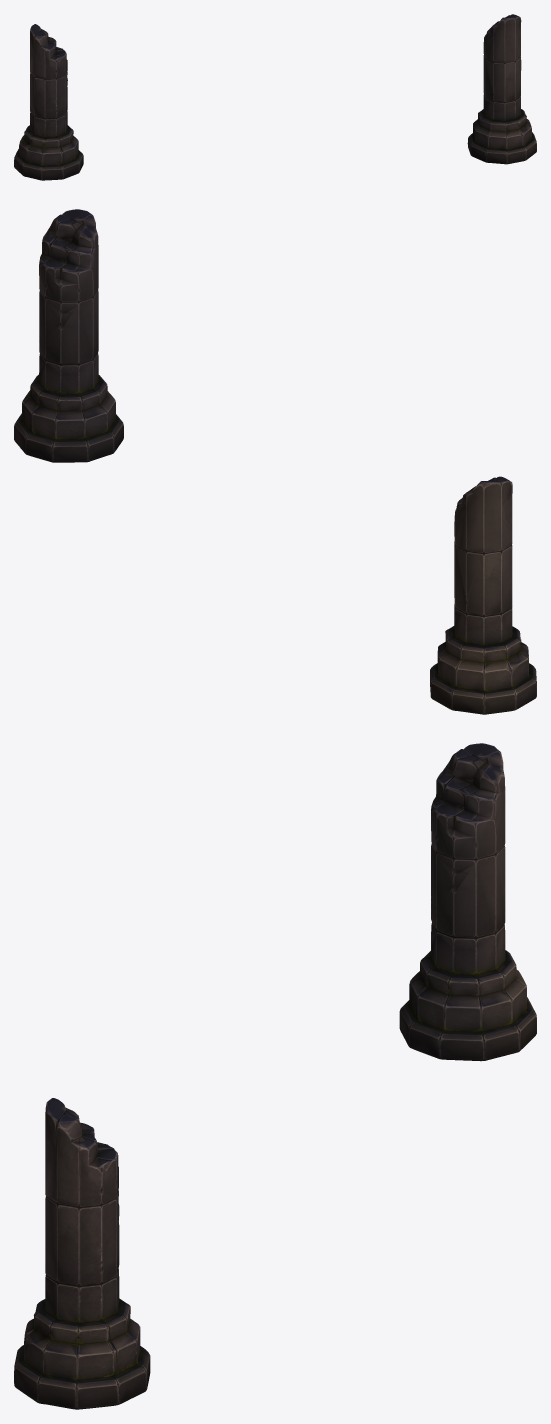
Rendered from dg_pillar_broken.glb.
3 views of the same model, one above another, from view 1: azimuth 30°, elevation 25°; view 2: azimuth 150°, elevation 25°; view 3: azimuth 270°, elevation 25° (orthographic). The views are drawn at different scales.
Visible parts, largest first — view 1: COL_DGP_PILLAR_BROKEN; view 2: COL_DGP_PILLAR_BROKEN; view 3: COL_DGP_PILLAR_BROKEN.
Part boxes in pixels (bbox=[...]): COL_DGP_PILLAR_BROKEN: bbox=[14, 14, 536, 180]; COL_DGP_PILLAR_BROKEN: bbox=[14, 209, 536, 714]; COL_DGP_PILLAR_BROKEN: bbox=[14, 743, 536, 1409].
Bounding box in the file's own units: 7.47 × 2.38 × 4.06.
Materials: 1 (1 with a texture image).
